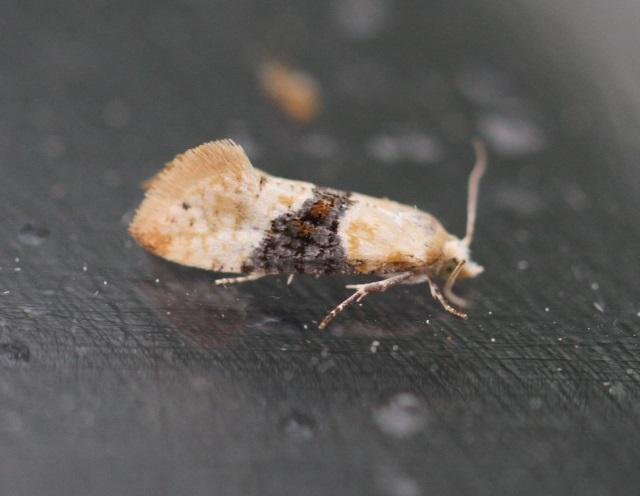Eupoecilia Ambiguella: (126, 138, 491, 333)
